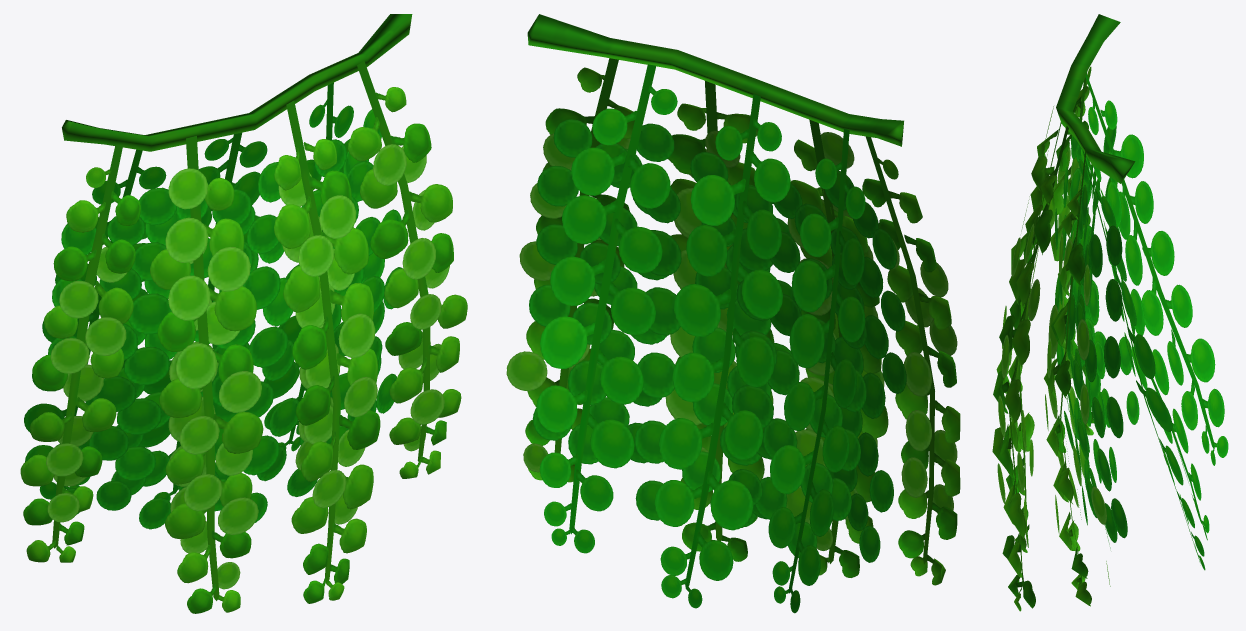
The model's file is sea-grapes-tuft.glb.
3 views of the same model, side by side, from view 1: azimuth 30°, elevation 25°; view 2: azimuth 150°, elevation 25°; view 3: azimuth 270°, elevation 25° (orthographic). The views are drawn at different scales.
Parts seen in each view (by area): view 1: DiveFishUmibudou__mUmibudou; view 2: DiveFishUmibudou__mUmibudou; view 3: DiveFishUmibudou__mUmibudou.
Boxes of the visible parts, x1=… form: DiveFishUmibudou__mUmibudou: x1=20, y1=14, x2=467, y2=613; DiveFishUmibudou__mUmibudou: x1=506, y1=14, x2=960, y2=613; DiveFishUmibudou__mUmibudou: x1=992, y1=14, x2=1228, y2=611.
Size of the model in its own units: 0.8671 by 1 by 0.4206.
Materials: 1 (1 with a texture image).
